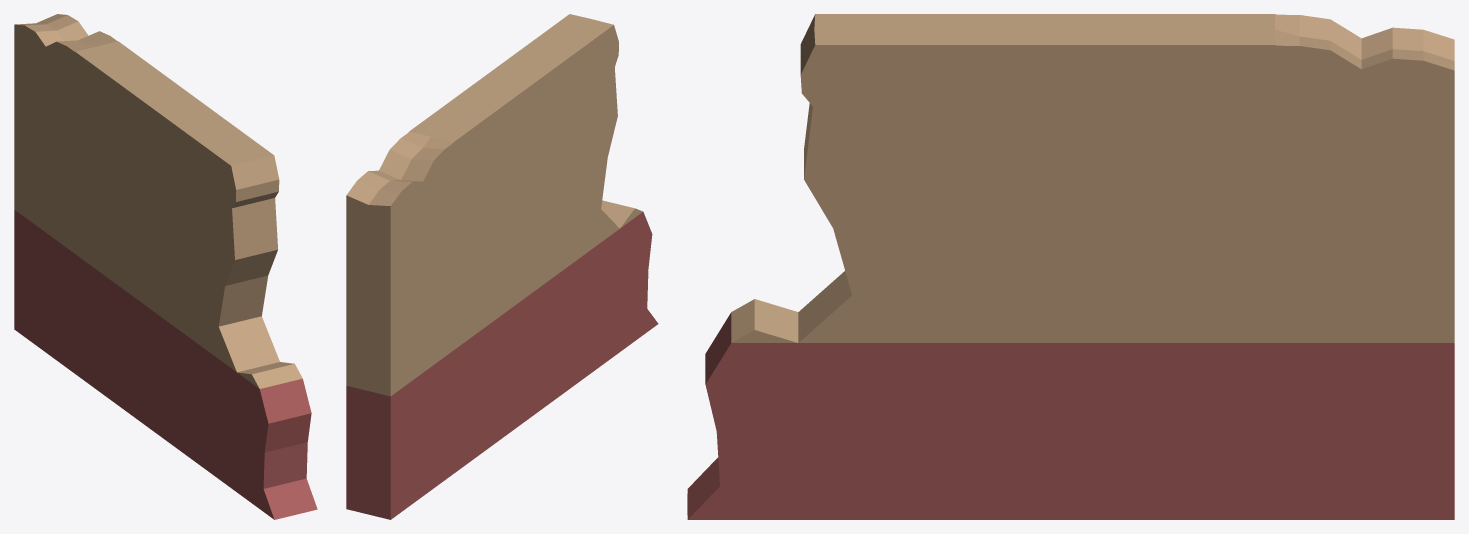
File: Wall Broken 2.fbx
The picture shows the model from 3 angles, left to right: view 1: azimuth 30°, elevation 25°; view 2: azimuth 150°, elevation 25°; view 3: azimuth 270°, elevation 25°; orthographic projection. The views are drawn at different scales.
Visible parts, largest first — view 1: Wall Broken 2; view 2: Wall Broken 2; view 3: Wall Broken 2.
Boxes of the visible parts, box(x1,y1,x2,y2) form: Wall Broken 2: box(14, 14, 317, 519); Wall Broken 2: box(346, 14, 658, 519); Wall Broken 2: box(687, 14, 1454, 519).
Size of the model in its own units: 1464 by 1000 by 140.
